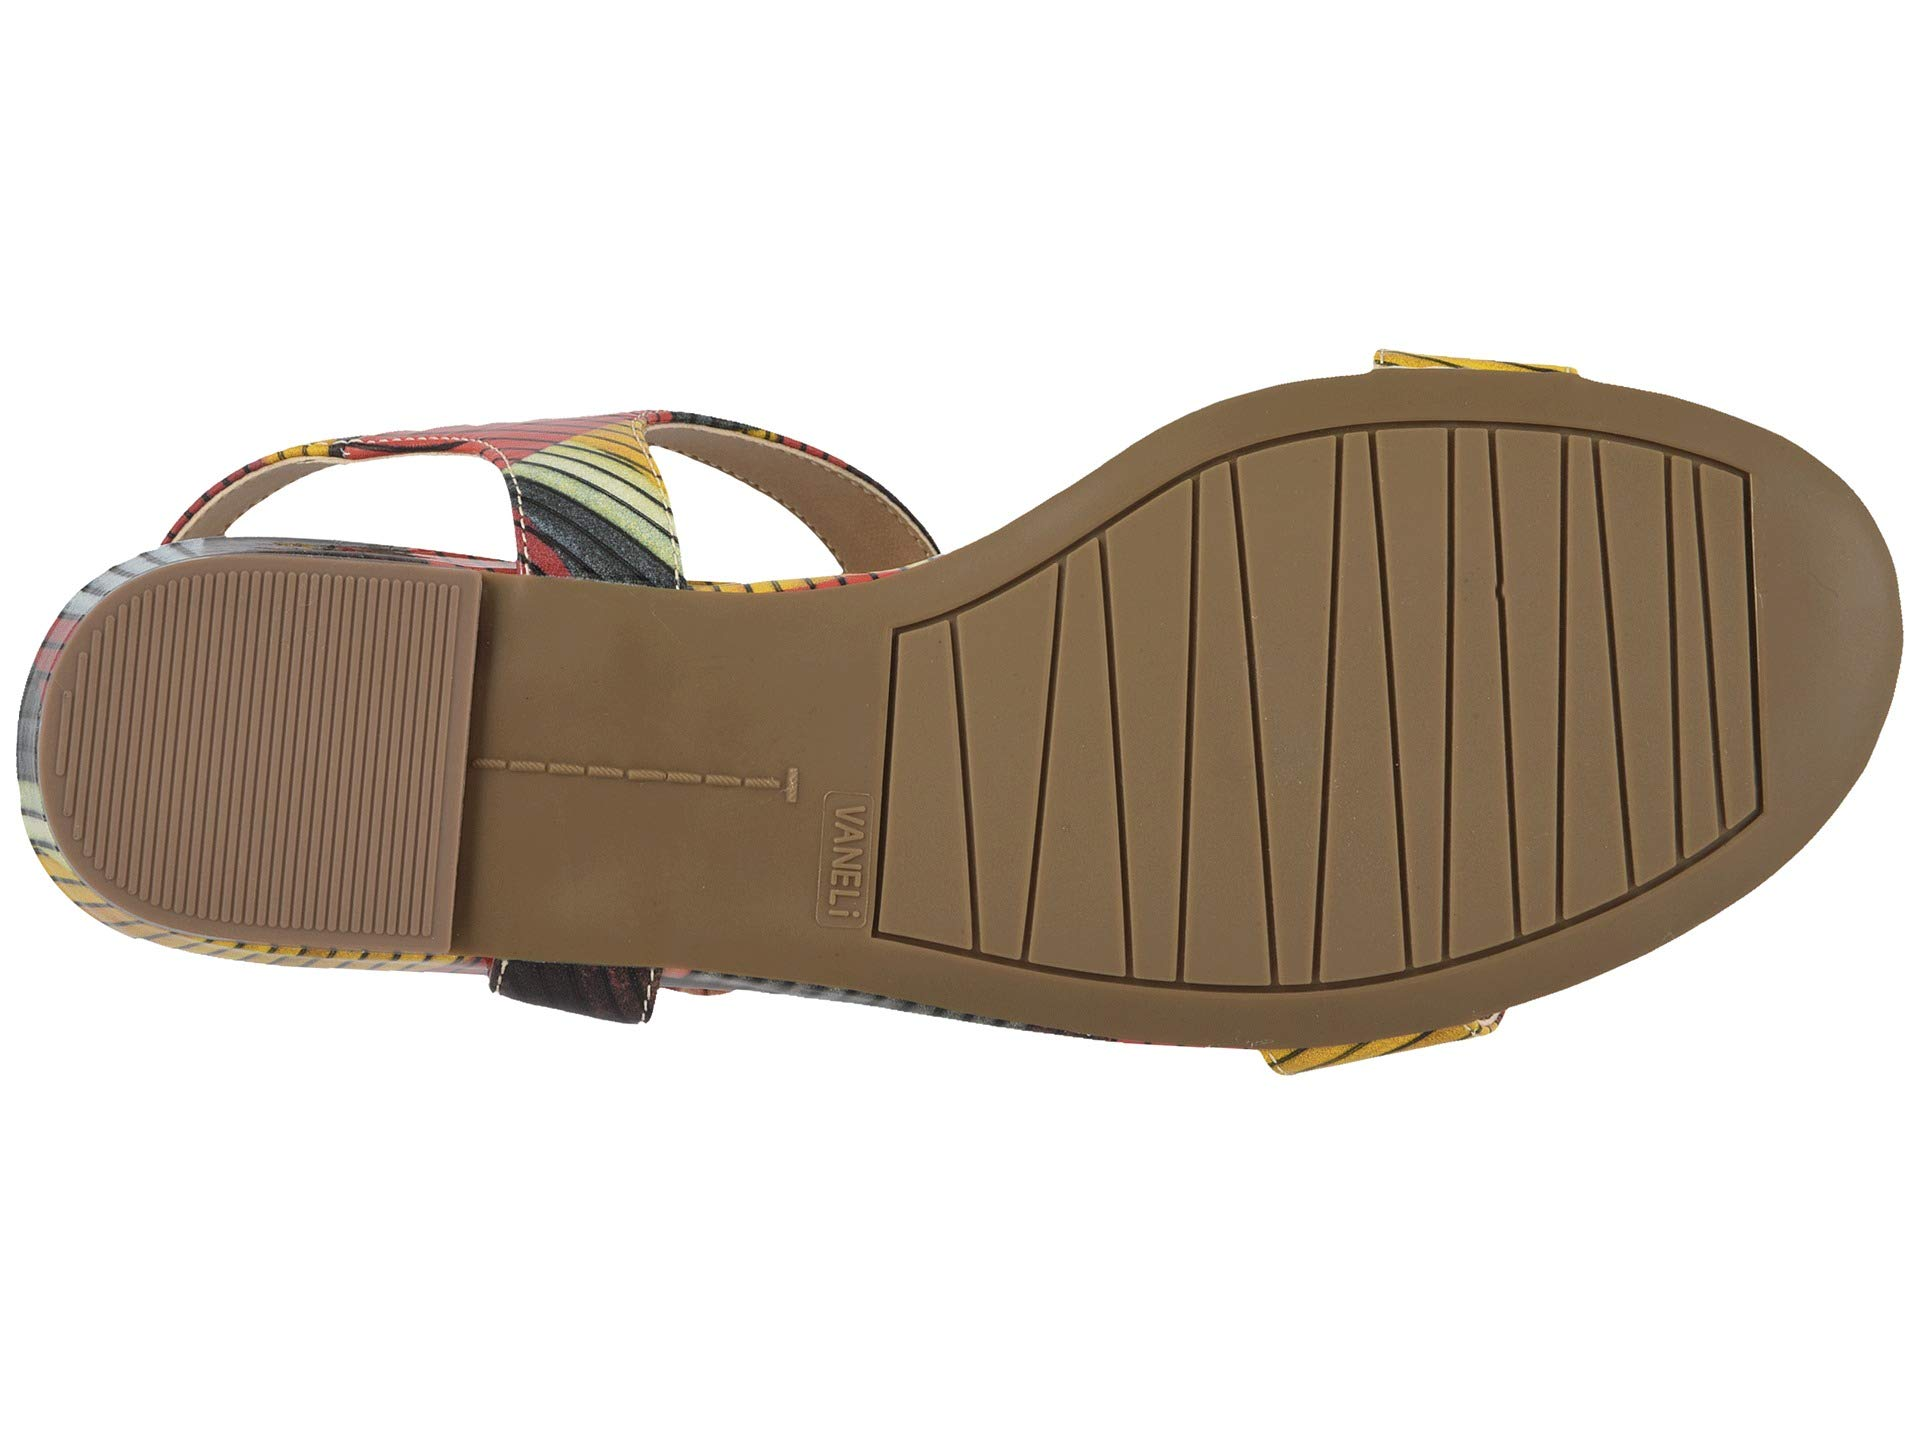line: (151, 625, 404, 880)
quad: (1203, 414, 1586, 1010)
text: (773, 781, 915, 942)
